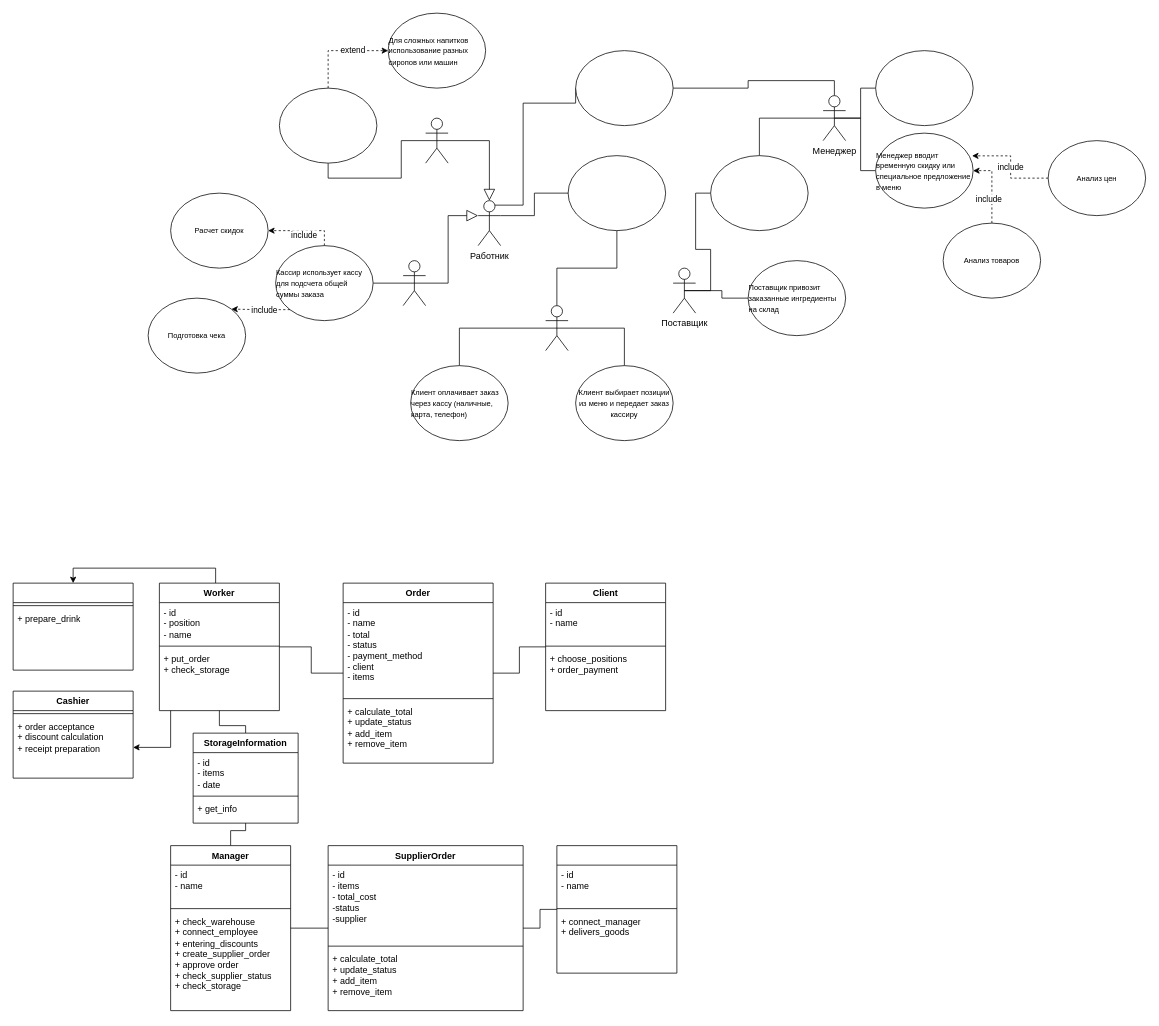
This 1159x1026 diagram has some shape labels left out. Here are the shapes that lost their labels. From the top down, the box of each, then its label:
(575, 50, 673, 126): Обмен информацией по клиентам, напиткам, акциям, наличию на складе
(875, 50, 973, 126): Менеджер проверяет текущий уровень ингредиентов на складе
(279, 87, 377, 163): Бариста использует кофемашину для приготовления кофе
(425, 117, 448, 163): Бариста
(567, 155, 666, 231): Работник передает готовый заказ клиенту
(710, 155, 808, 231): Менеджер связывается с поставщиком для пополнения склада
(402, 260, 426, 306): Кассир
(545, 305, 568, 351): Клиент
(12, 582, 133, 670): Barista
(556, 845, 677, 973): Supplier
